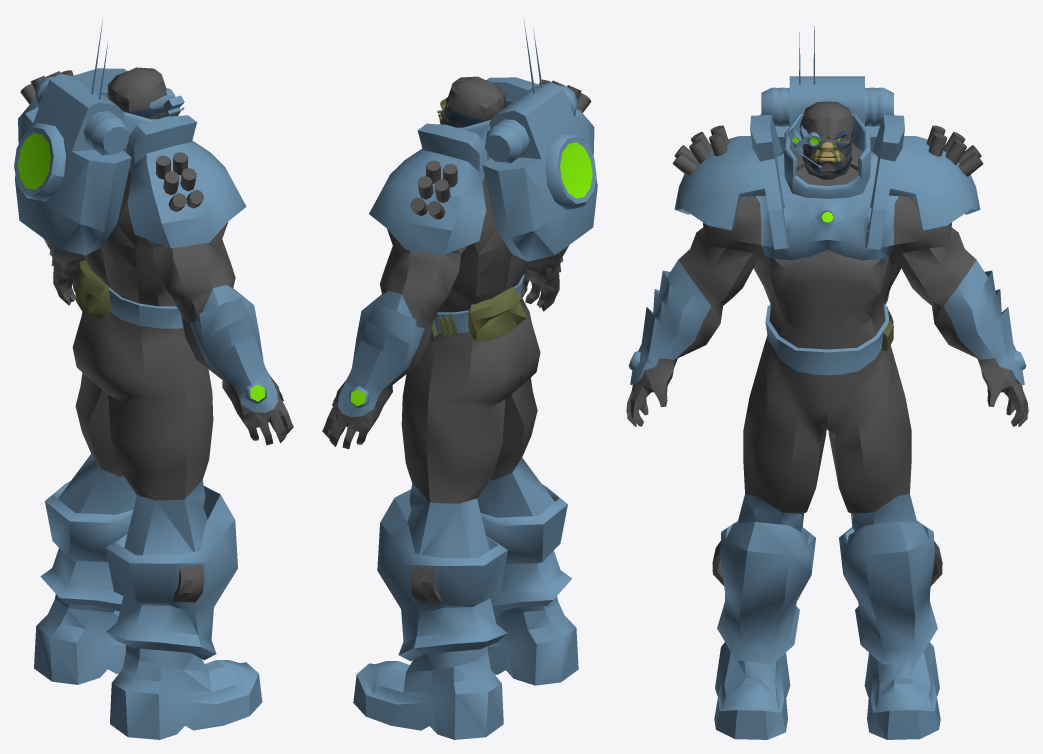
File: grunt.obj
The picture shows the model from 3 angles, left to right: view 1: azimuth 30°, elevation 25°; view 2: azimuth 150°, elevation 25°; view 3: azimuth 270°, elevation 25°; orthographic projection. The views are drawn at different scales.
Parts seen in each view (by area): view 1: Line02; view 2: Line02; view 3: Line02.
Boxes of the visible parts, bbox=[...] form: Line02: bbox=[14, 17, 293, 739]; Line02: bbox=[322, 18, 597, 739]; Line02: bbox=[626, 26, 1028, 739].
Bounding box in the file's own units: 0.2902 × 1 × 0.5422.
